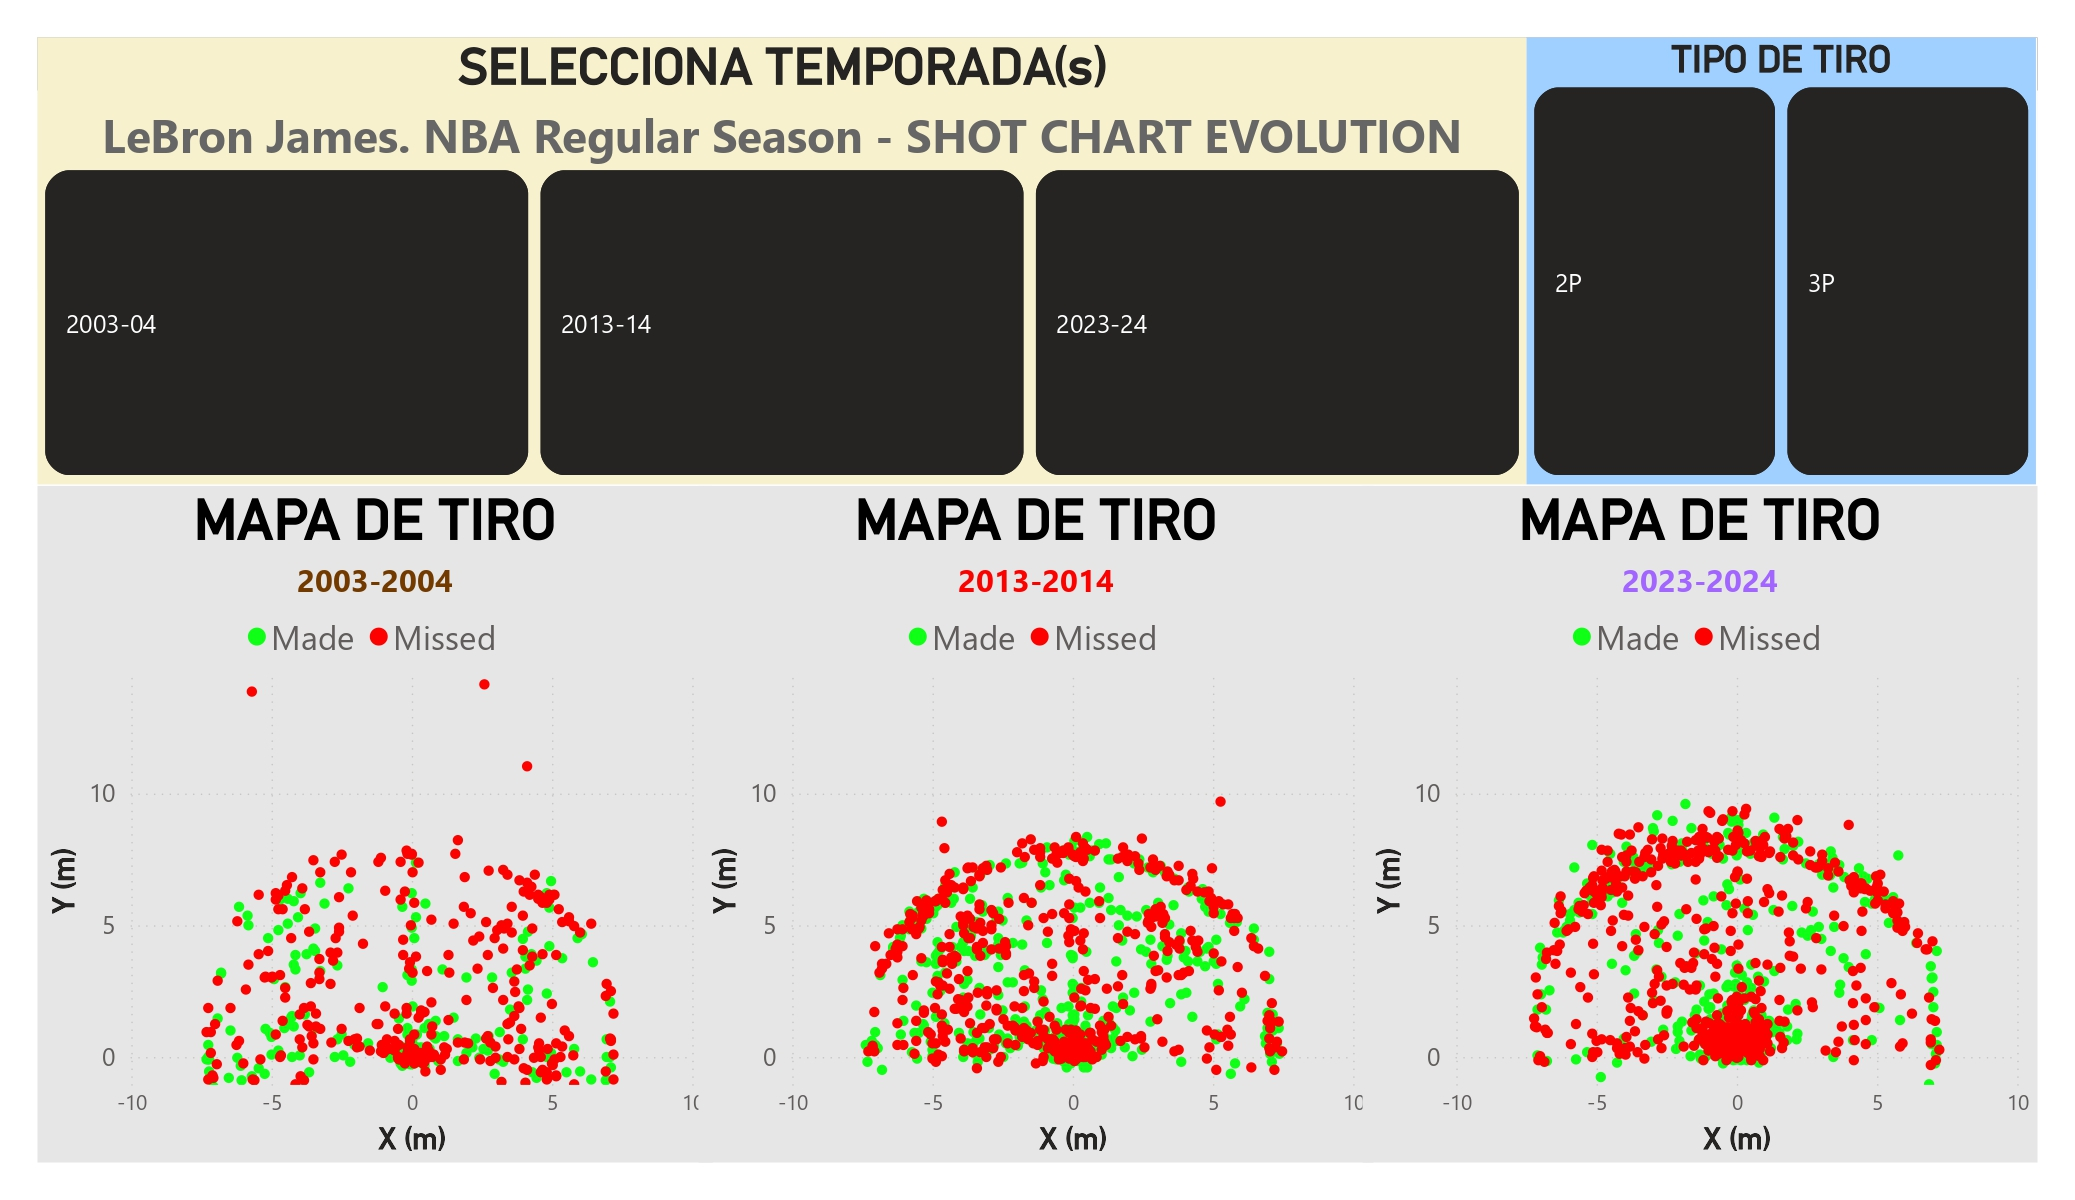

What the dashboard file says about the page in this screenshot:
{"tool":"powerbi","page":{"name":"MAPA_TIRO_Comparativo","canvas":[1280,720],"ordinal":4},"visuals":[{"type":"scatterChart","title":"MAPA DE TIRO","fields":{"X":["lebron_shot_data.X_m"],"Series":["lebron_shot_data.ShotResult"],"Y":["lebron_shot_data.Y_m"]},"box":[0,286.7,431.7,433.3],"z":0},{"type":"scatterChart","title":"MAPA DE TIRO","fields":{"X":["lebron_shot_data.X_m"],"Series":["lebron_shot_data.ShotResult"],"Y":["lebron_shot_data.Y_m"]},"box":[423.3,286.7,431.7,433.3],"z":1000},{"type":"scatterChart","title":"MAPA DE TIRO","fields":{"X":["lebron_shot_data.X_m"],"Series":["lebron_shot_data.ShotResult"],"Y":["lebron_shot_data.Y_m"]},"box":[848.3,286.7,431.7,433.3],"z":2000},{"type":"advancedSlicerVisual","title":"SELECCIONA TEMPORADA(s)","fields":{"Values":["lebron_career_data.SEASON_ID"]},"box":[0,0,952.6,286.2],"z":3000},{"type":"advancedSlicerVisual","title":"TIPO DE TIRO","fields":{"Values":["lebron_shot_data.SHOT_TYPE"]},"box":[952.6,0,326.9,286.2],"z":4000}]}

Visuals, with their boxes on the page's 1280x720 design canvas (x1, y1, x2, y2). These are canvas units, not pixel positions in the 2075x1200 screenshot, which may show the page scaled, cropped or inside an application window:
"MAPA DE TIRO" scatterChart: (0,287,432,720)
"MAPA DE TIRO" scatterChart: (423,287,855,720)
"MAPA DE TIRO" scatterChart: (848,287,1280,720)
"SELECCIONA TEMPORADA(s)" advancedSlicerVisual: (0,0,953,286)
"TIPO DE TIRO" advancedSlicerVisual: (953,0,1280,286)
